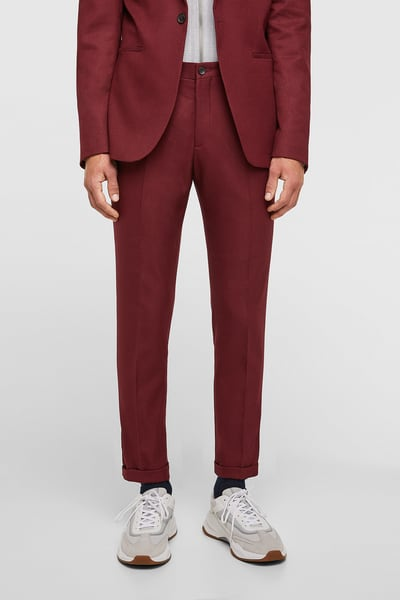feet: (86, 459, 304, 573)
